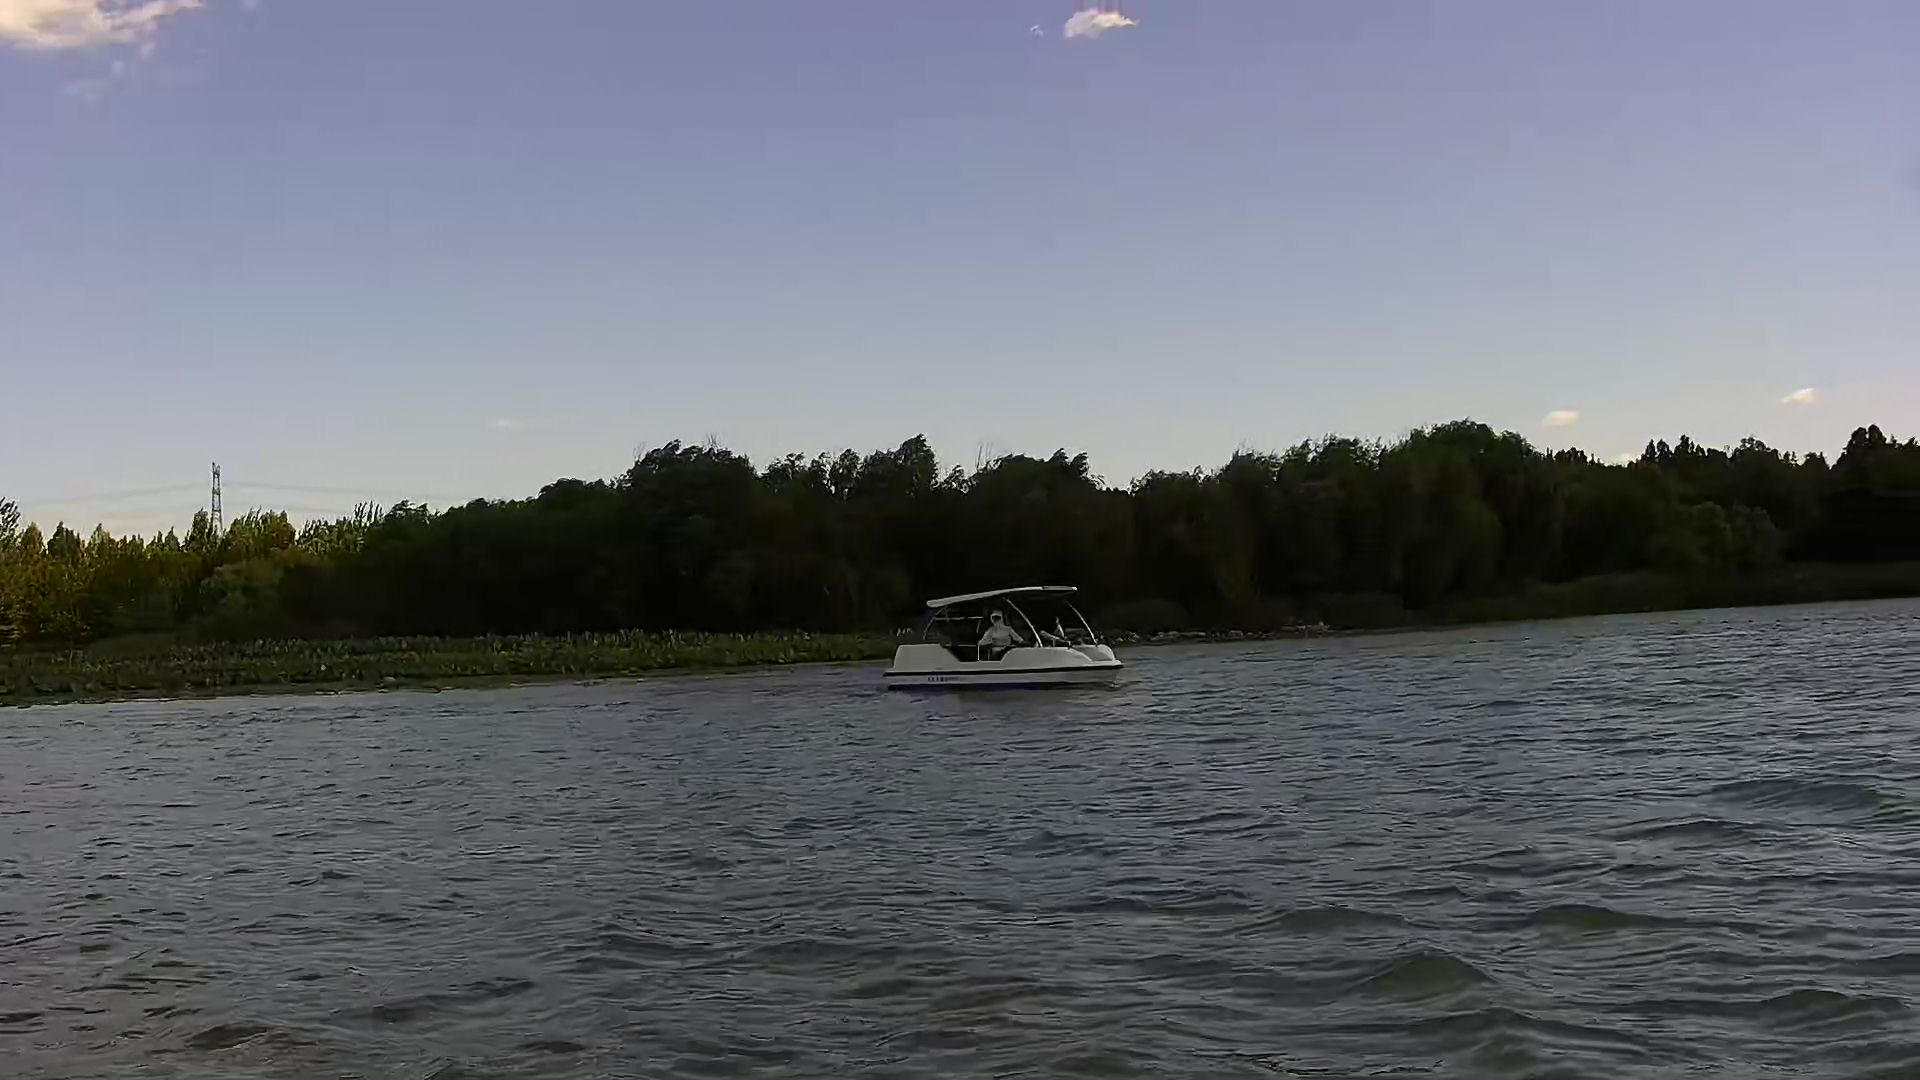boat: (878, 576, 1131, 692)
